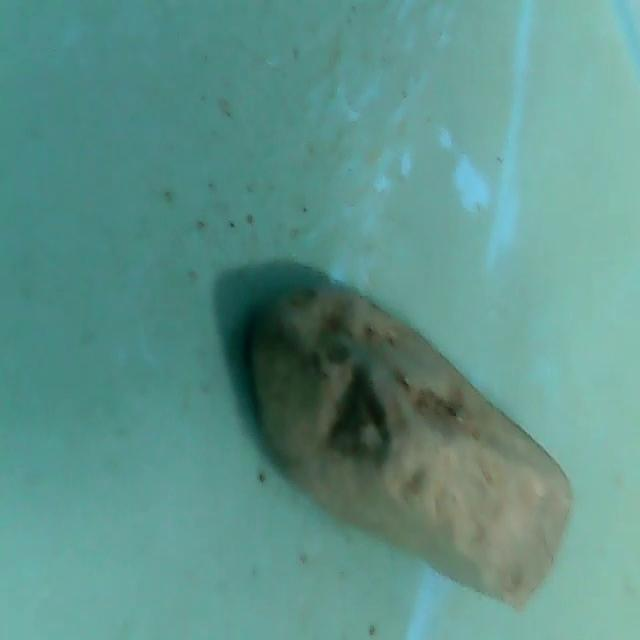rock: (228, 264, 572, 608)
